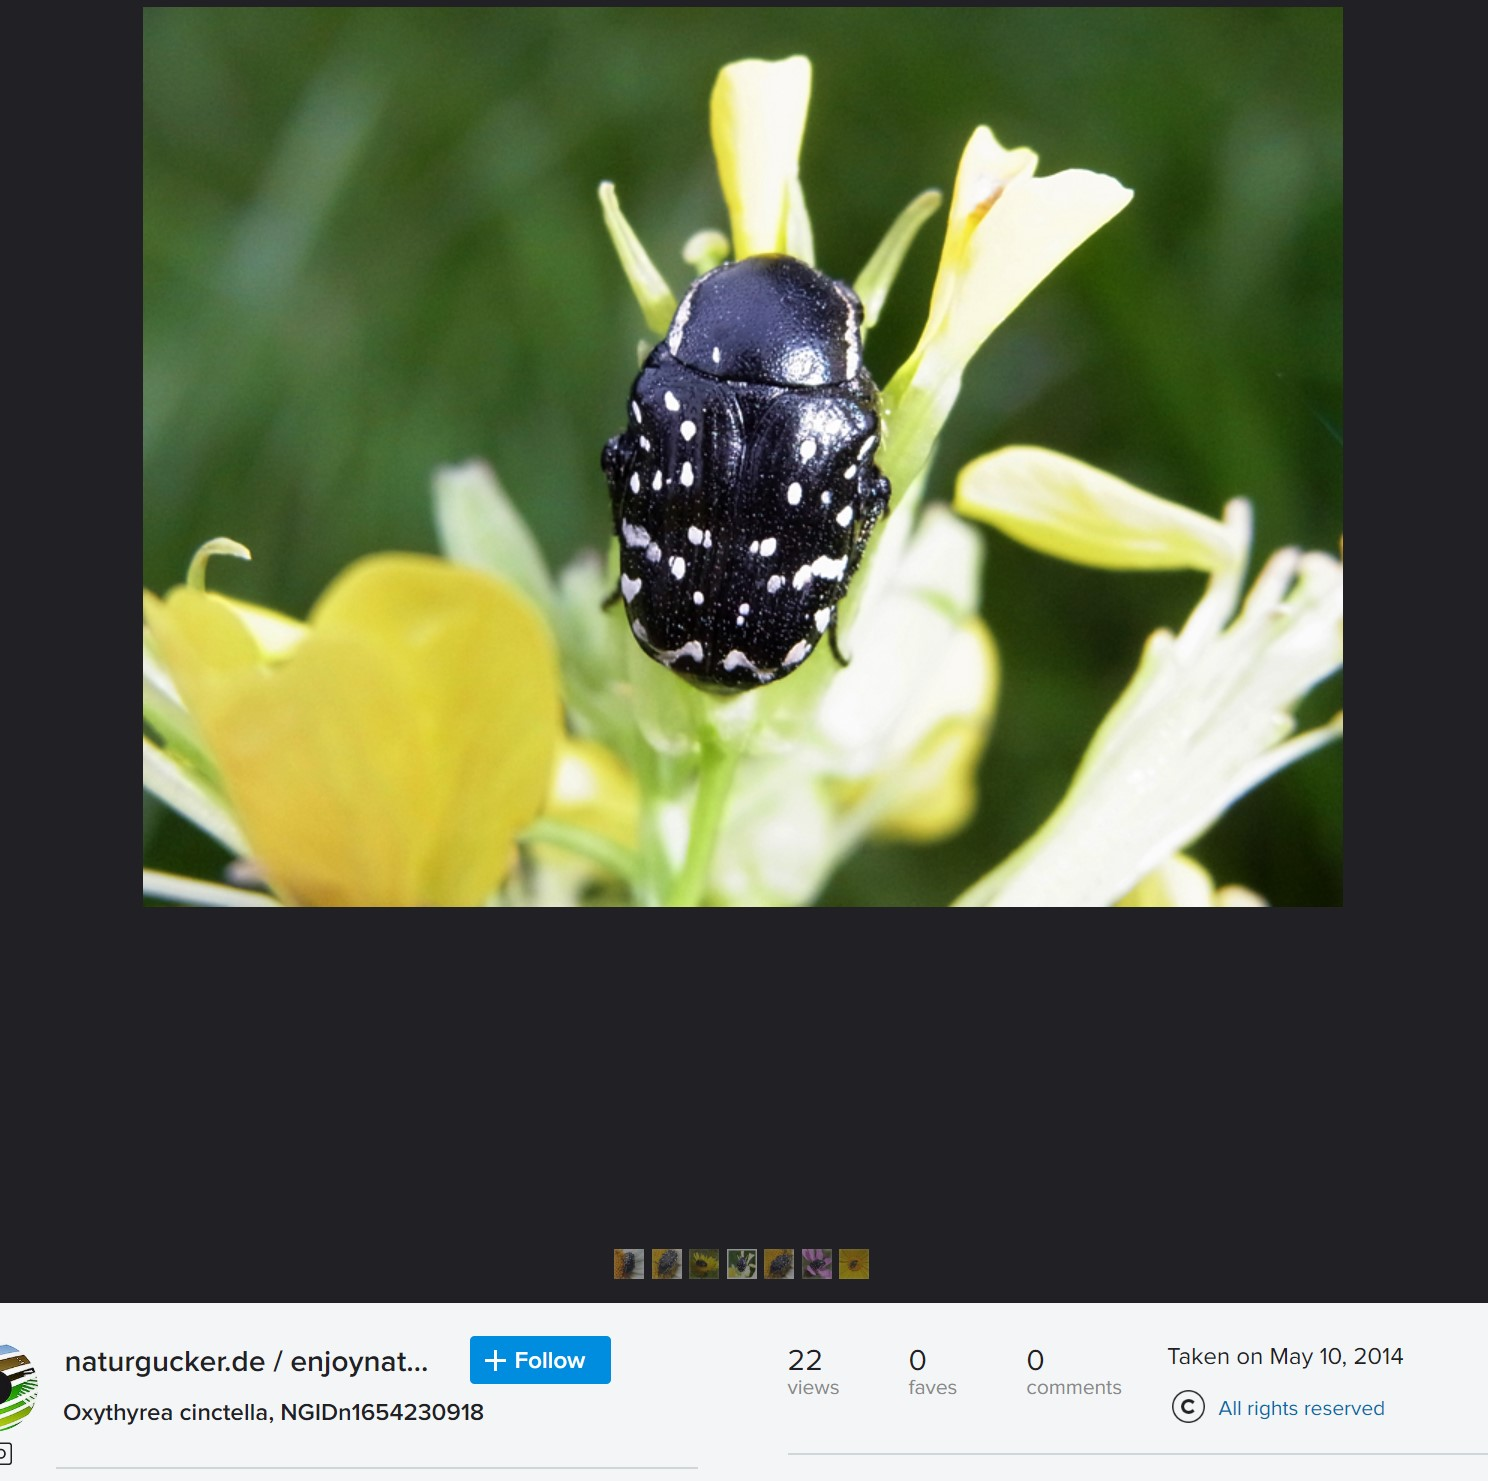Oxythyrea_cinctella: (585, 248, 903, 694)
